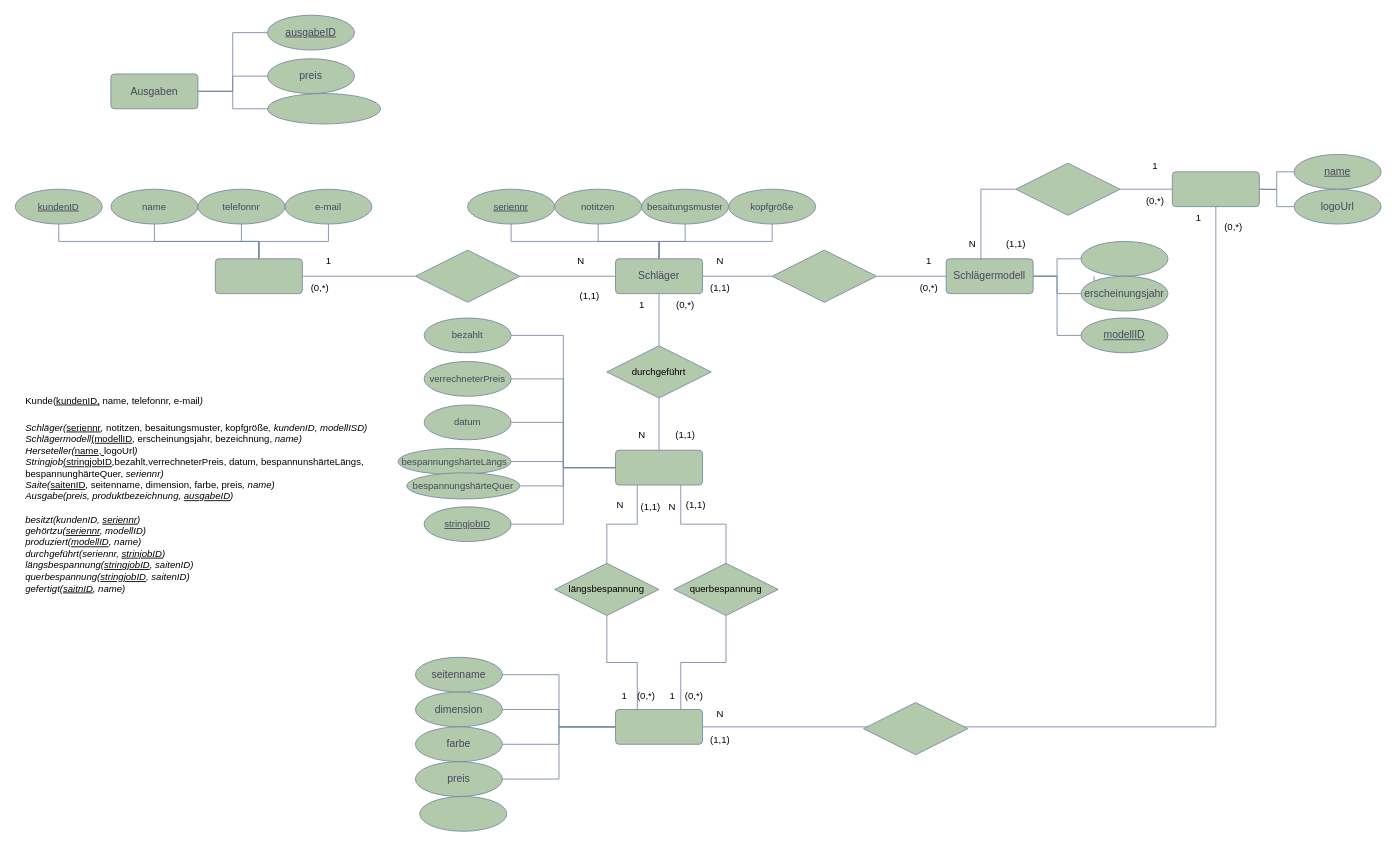
The diagram is 1396 pixels wide and 847 high, and some of its shapes have lost their labels. Each missing label, with the centre of its shape:
besitzt: point (467, 275)
bezeichnung: point (1124, 258)
gefertigt: point (915, 728)
gehörtzu: point (824, 275)
Hersteller: point (1215, 189)
Kunde: point (258, 276)
produktbezeichnung: point (324, 108)
produziert: point (1067, 188)
Saite: point (659, 726)
saitenID: point (463, 813)
Stringjob: point (659, 467)
